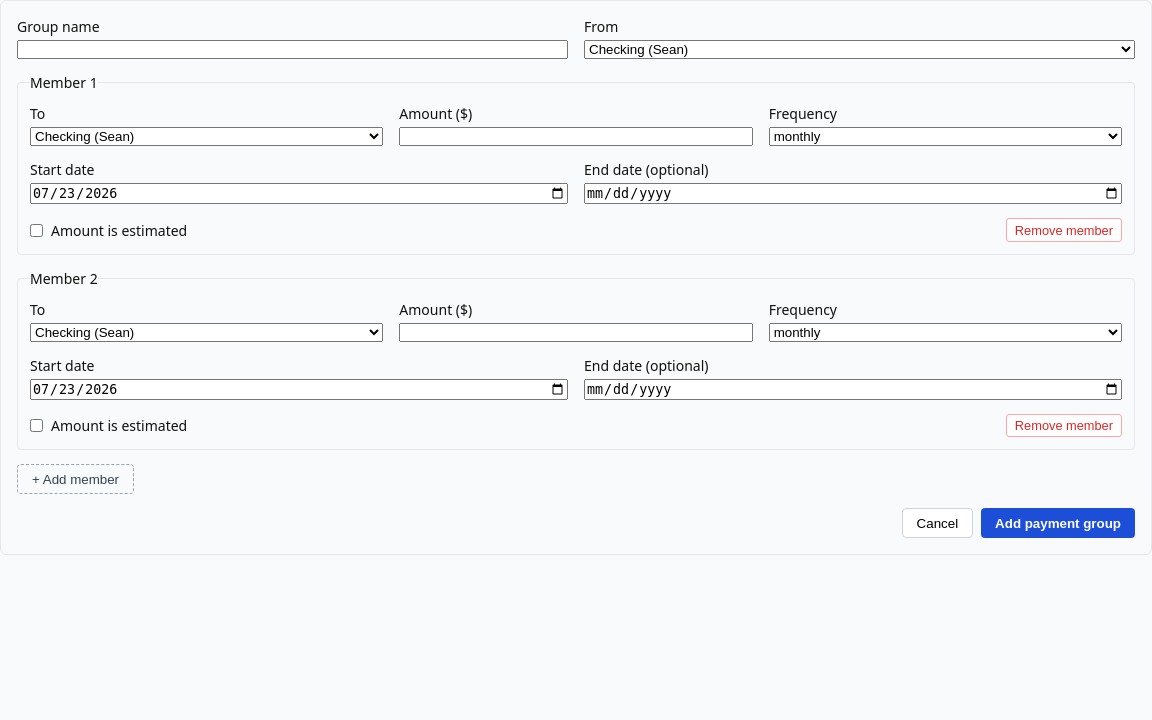
Test: ScheduleGroupForm — submit › shows terminateAtZero checkbox only for rows whose destination is amortizing
Check: the text "Stop when destination balance reaches zero" is not shown
Select "Car Loan (Sean)" in the 1st dropdown labelled "To" at (207, 136), box [30,127,383,146]
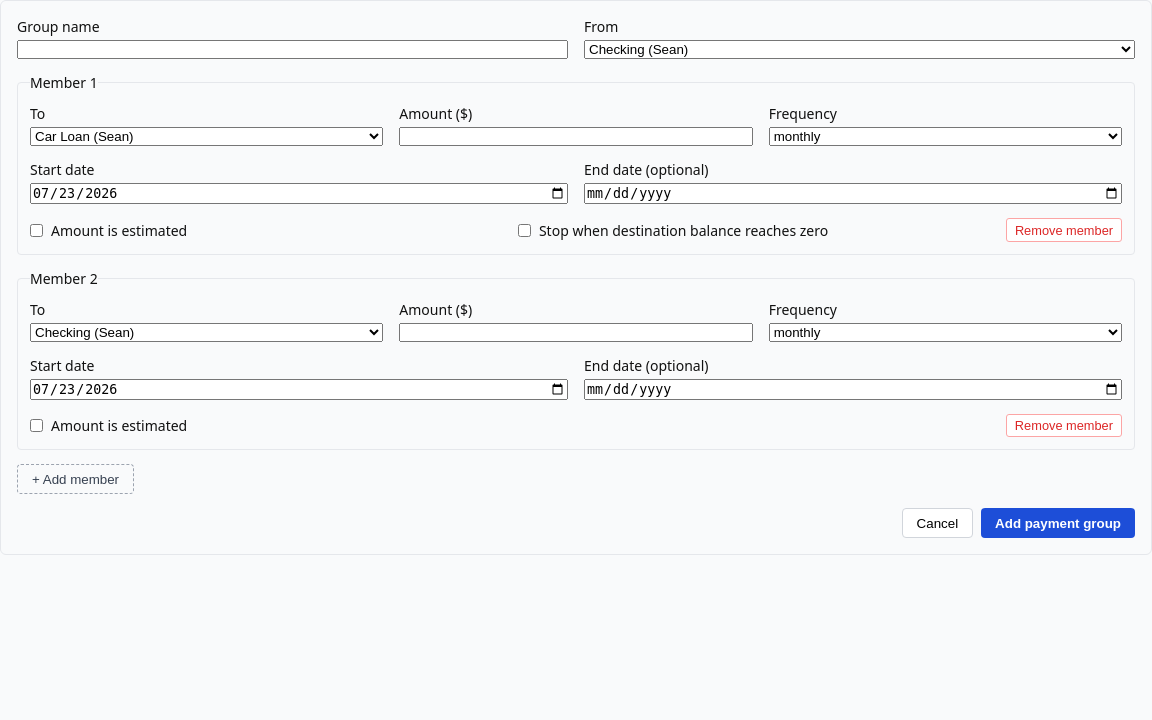
Check: the text "Stop when destination balance reaches zero" is shown once, box [518,220,828,240]
